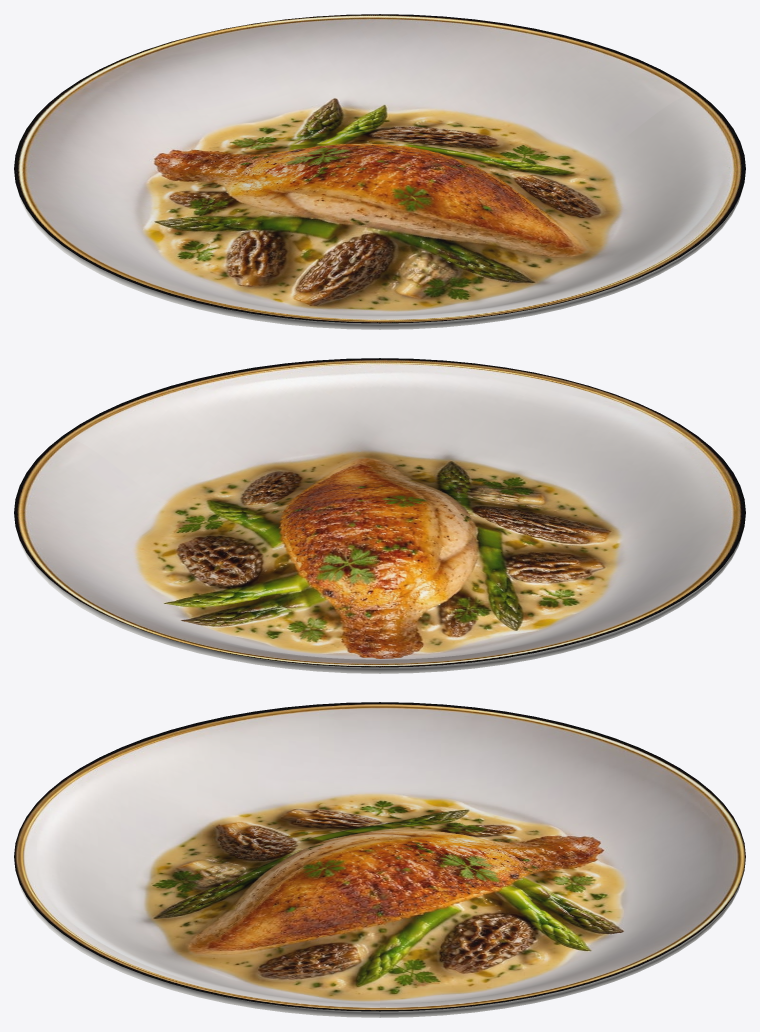
File: supreme.glb
3 views of the same model, one above another, from view 1: azimuth 30°, elevation 25°; view 2: azimuth 150°, elevation 25°; view 3: azimuth 270°, elevation 25° (orthographic).
Visible parts, largest first — view 1: dish; view 2: dish; view 3: dish.
Part boxes in pixels (bbox=[...]): dish: bbox=[14, 14, 745, 329]; dish: bbox=[14, 358, 745, 673]; dish: bbox=[14, 702, 745, 1017].
Size of the model in its own units: 0.28 by 0.025 by 0.28.
Materials: 2 (1 with a texture image).
